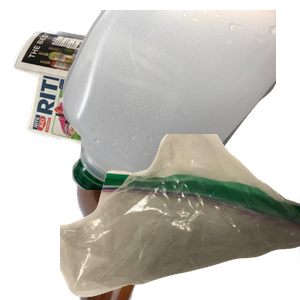glass: (60, 120, 300, 300)
paper: (11, 27, 213, 185)
plastic: (60, 10, 300, 190)
trash: (60, 134, 300, 300)
